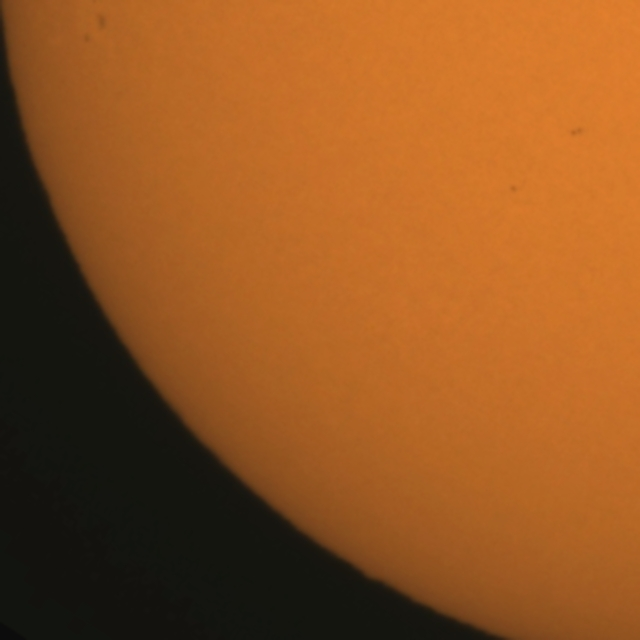sunspot: (81, 11, 107, 47), (568, 125, 586, 139), (508, 182, 520, 196), (81, 31, 92, 46)
